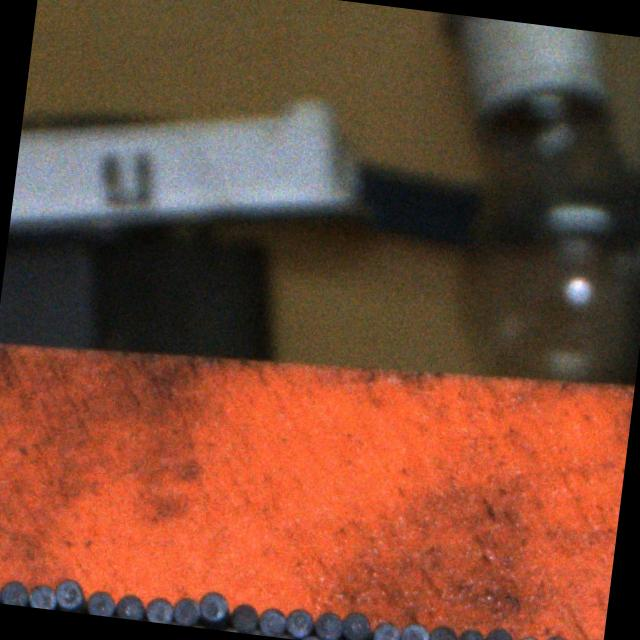tool: (196, 588, 228, 621), (227, 602, 259, 634), (311, 608, 343, 640), (338, 609, 371, 640), (54, 576, 84, 610), (284, 606, 314, 639), (171, 595, 201, 627), (256, 606, 286, 638), (27, 580, 58, 610), (84, 588, 116, 617), (143, 595, 174, 624), (0, 577, 29, 606), (114, 592, 144, 620), (397, 619, 429, 640), (370, 619, 399, 640), (426, 622, 458, 640), (482, 624, 514, 640), (454, 625, 485, 640), (539, 632, 571, 640)
